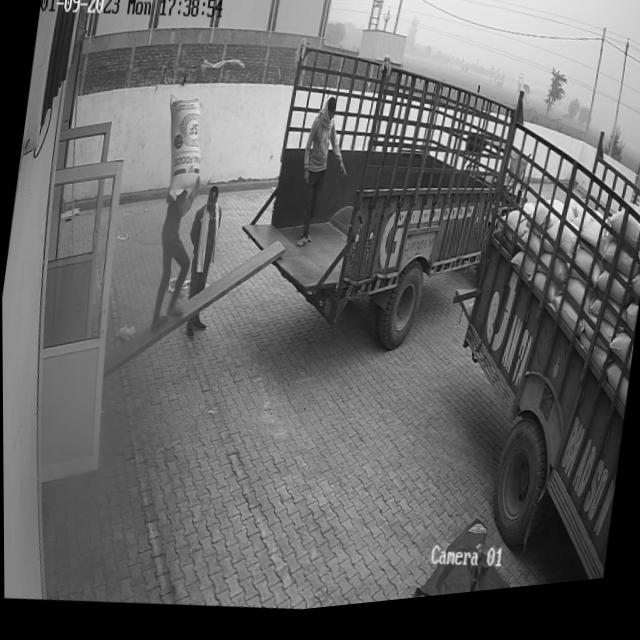sack: (155, 95, 210, 208)
